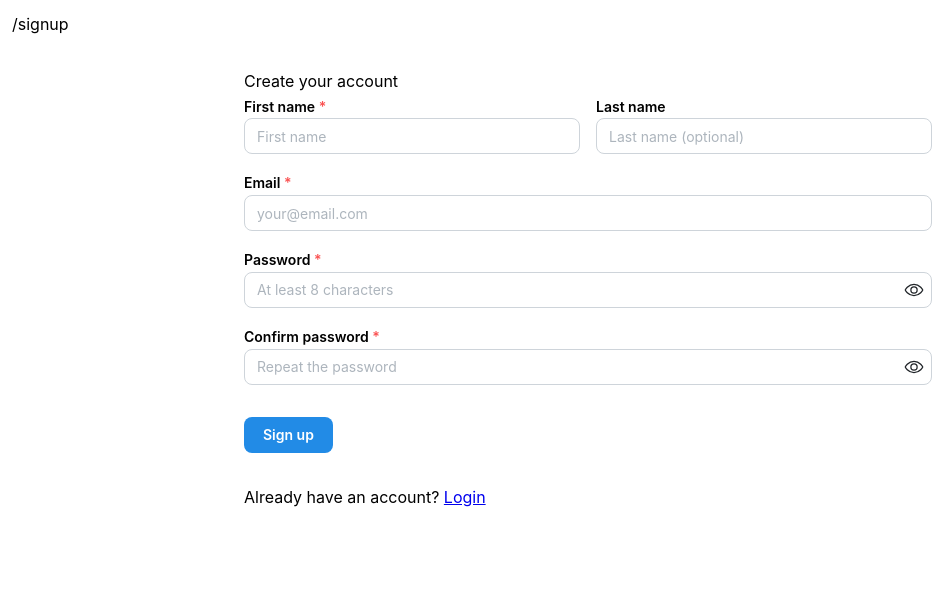
Test: the sign-up page › stays on the page with the specific message when the email is taken
Type "Sofía" into the field labelled "First name *" at {"x": 412, "y": 136}, box [244,118,580,154]
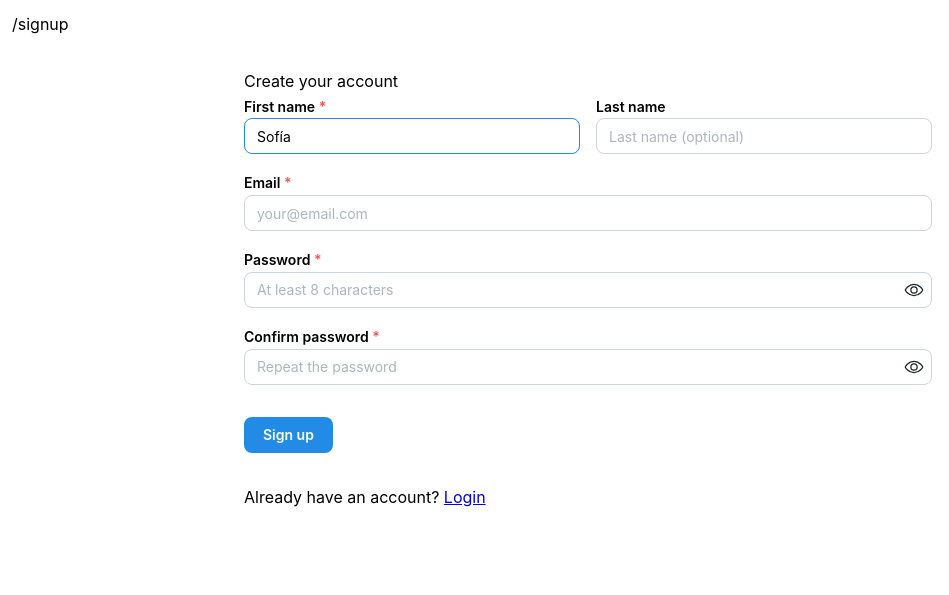
Type "Lara" into the field labelled "Last name" at {"x": 764, "y": 136}, box [596,118,932,154]
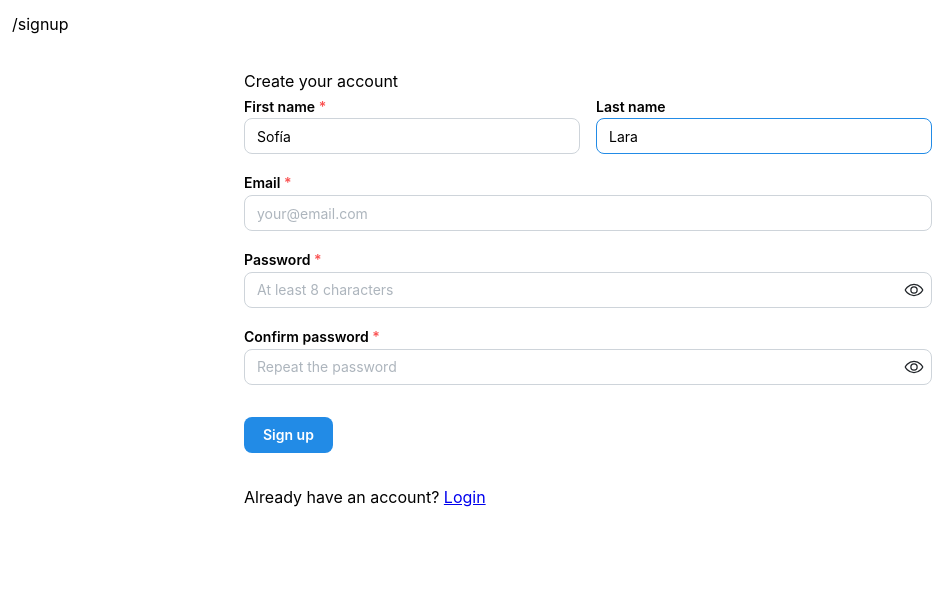
Type "new@example.test" into the field labelled "Email *" at {"x": 588, "y": 213}, box [244,195,932,231]
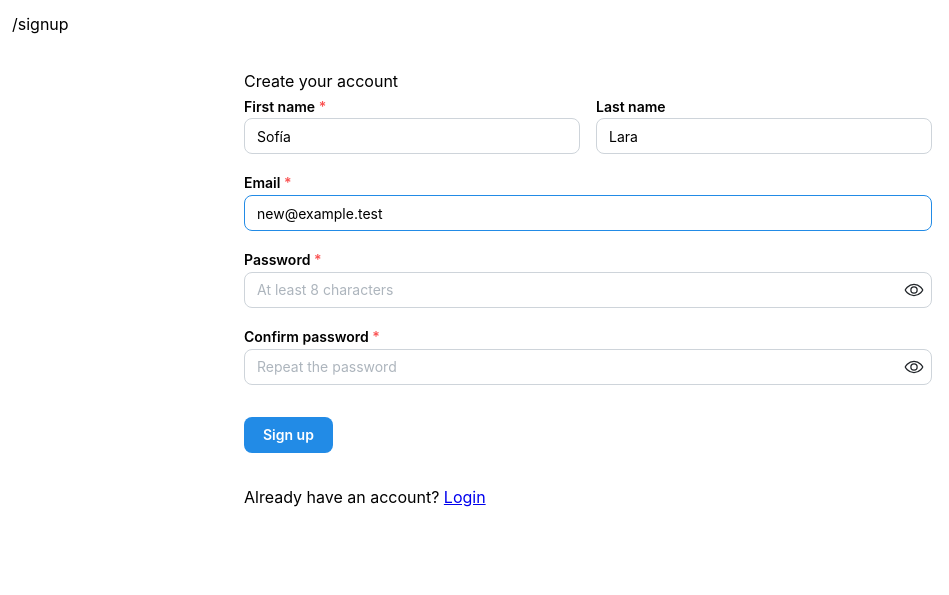
Type "sunlight-123" into the password field labelled "Password *" at {"x": 588, "y": 290}, box [245,273,931,307]
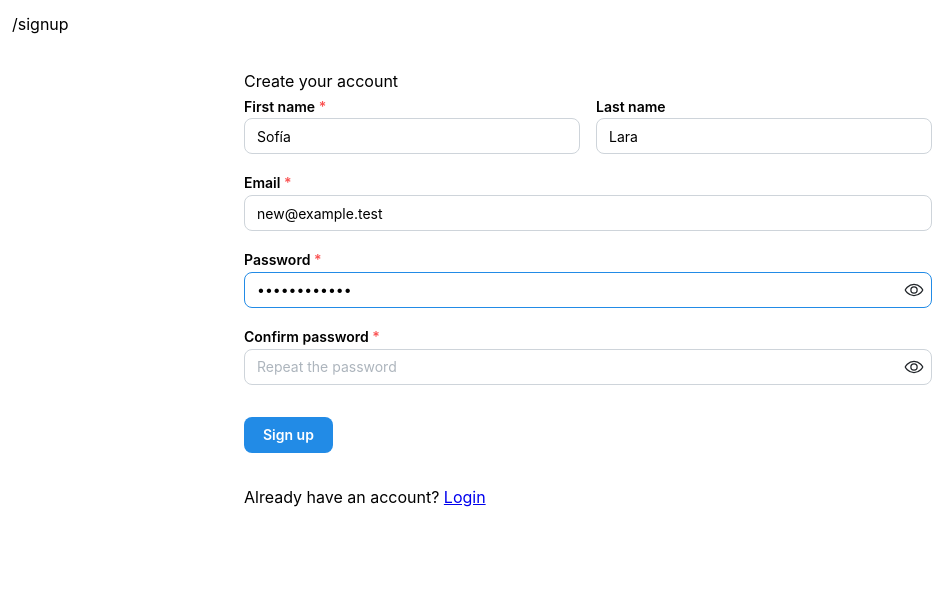
Type "sunlight-123" into the password field labelled "Confirm password *" at {"x": 588, "y": 367}, box [245,350,931,384]
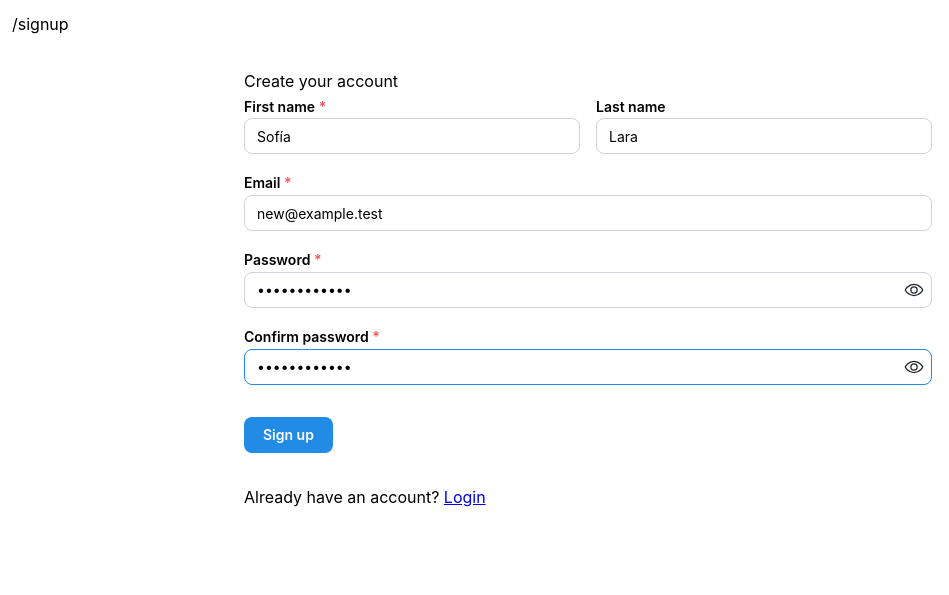
Click the button "Sign up" at {"x": 288, "y": 435}, box [244,417,333,453]
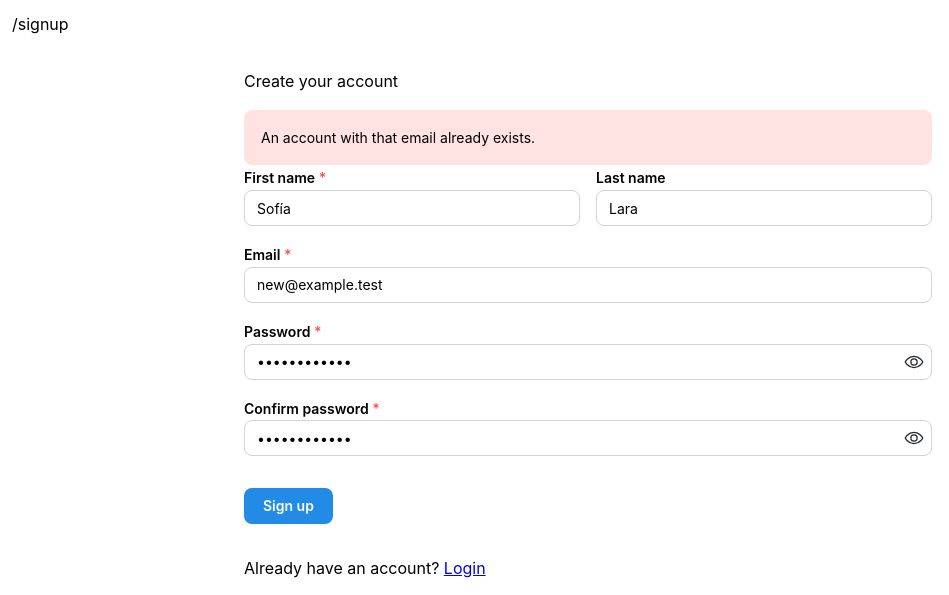
Check: the text with test id "location" reads "/signup", box [12,14,69,34]
Check: the text "An account with that email already exists." is shown, box [261,129,535,146]
